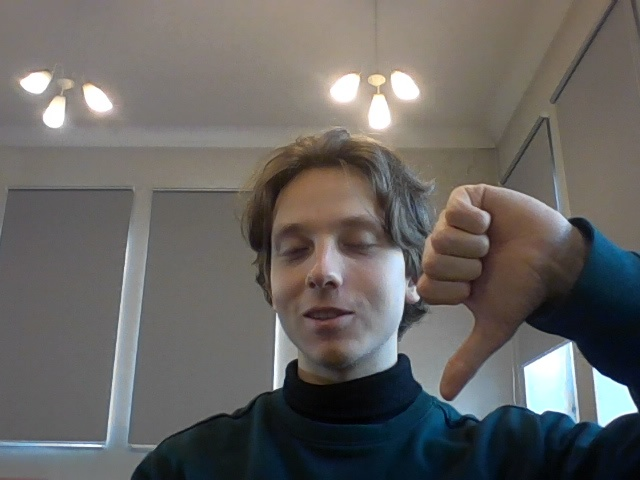no: (415, 172, 548, 393)
